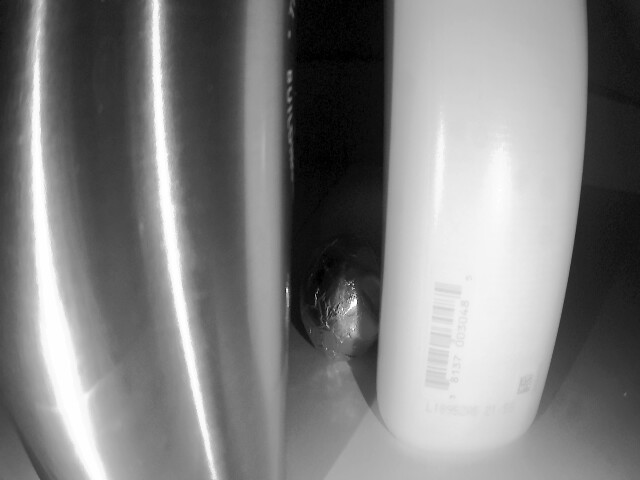silver: (297, 236, 384, 362)
